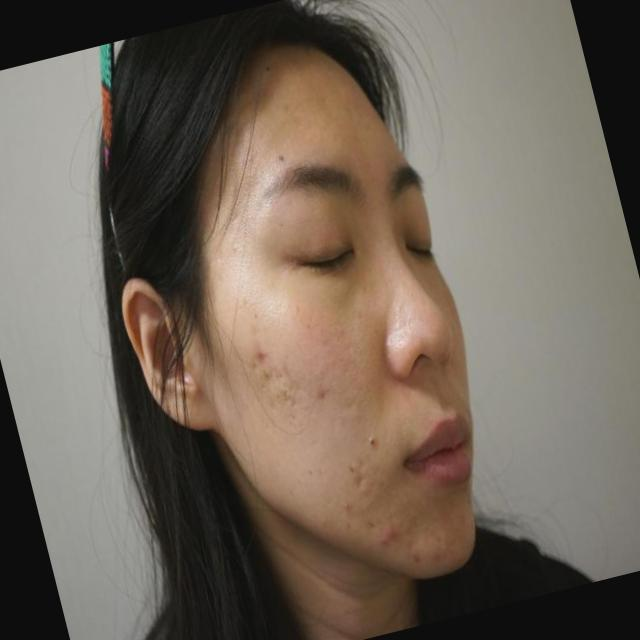acne: (306, 372, 332, 404), (276, 382, 300, 412), (404, 544, 428, 574), (373, 526, 397, 555), (275, 358, 298, 386), (260, 359, 280, 388), (347, 463, 368, 487), (334, 500, 354, 520), (244, 345, 260, 361)
